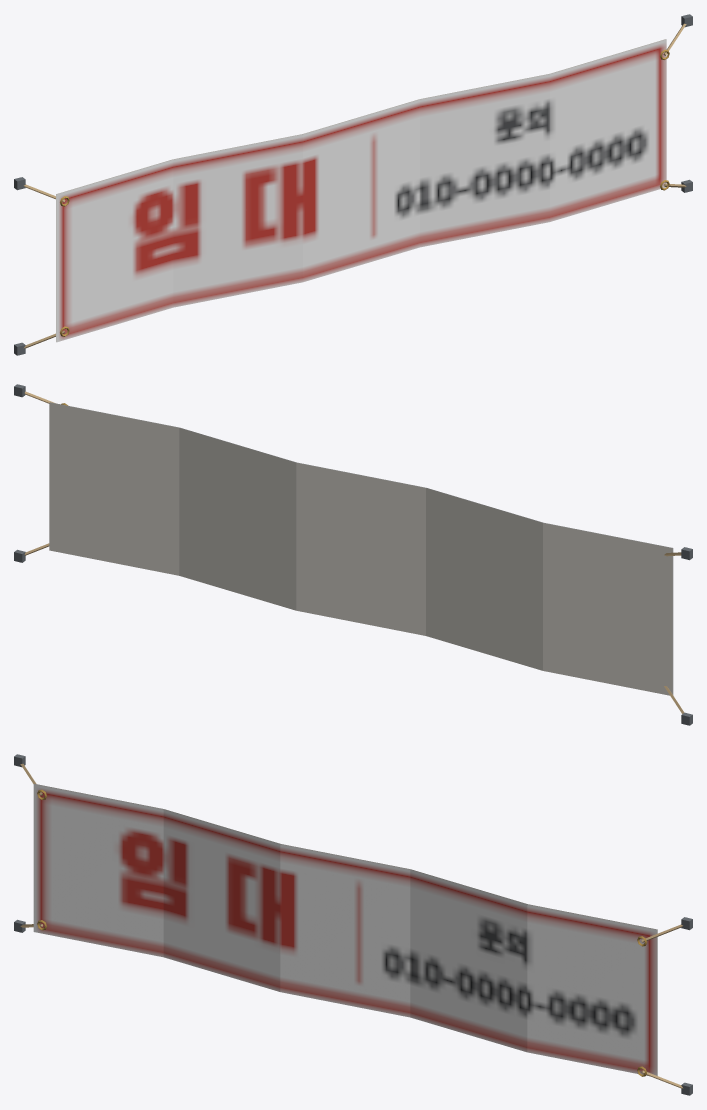
File: SC_Shop_Banner_ForRent.gltf
3 renders of one model, top to bottom at view 1: azimuth 30°, elevation 25°; view 2: azimuth 150°, elevation 25°; view 3: azimuth 330°, elevation 25°, orthographic.
Visible parts, largest first — view 1: SC_Shop_Banner_ForRent; view 2: SC_Shop_Banner_ForRent; view 3: SC_Shop_Banner_ForRent.
Boxes of the visible parts, bbox=[...] form: SC_Shop_Banner_ForRent: bbox=[14, 14, 692, 355]; SC_Shop_Banner_ForRent: bbox=[14, 384, 692, 725]; SC_Shop_Banner_ForRent: bbox=[14, 754, 692, 1095].
Size of the model in its own units: 2.41 by 0.5942 by 0.0843.
Materials: 2 (2 with a texture image).
